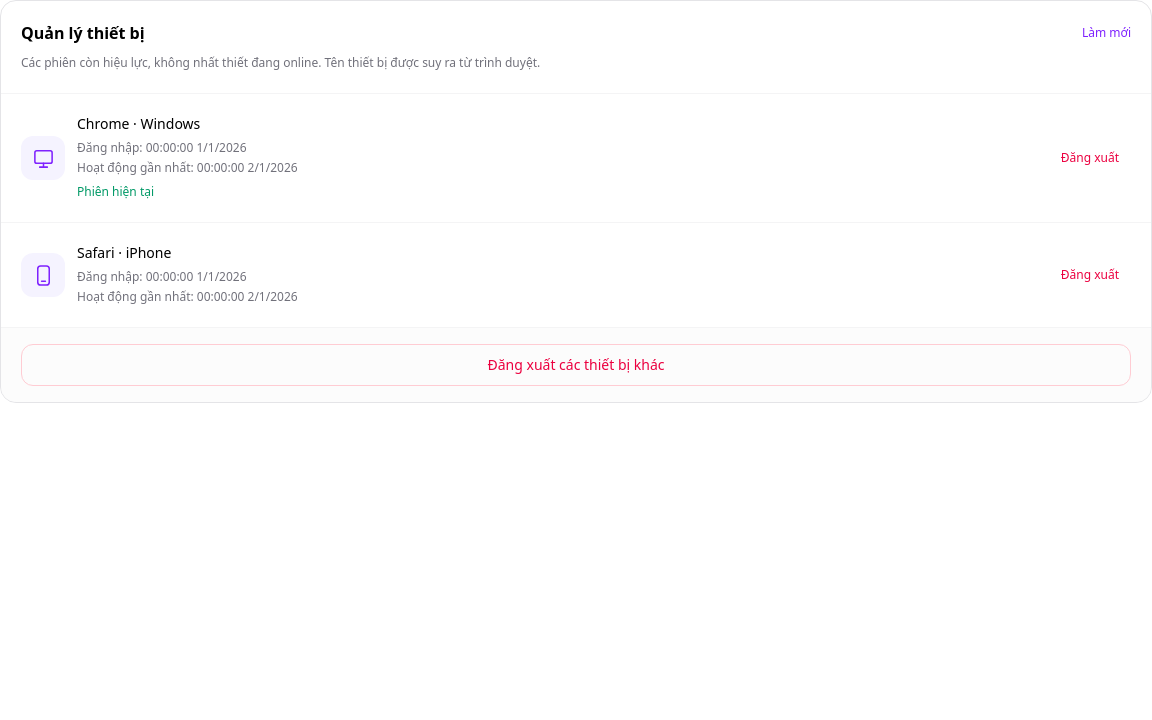
Test: revokes other sessions while preserving the current one
Expected: the text "Safari · iPhone" is shown, x1=77 y1=243 x2=171 y2=262
Click the button "Đăng xuất các thiết bị khác".
click(576, 365)  # box x1=21 y1=344 x2=1131 y2=386
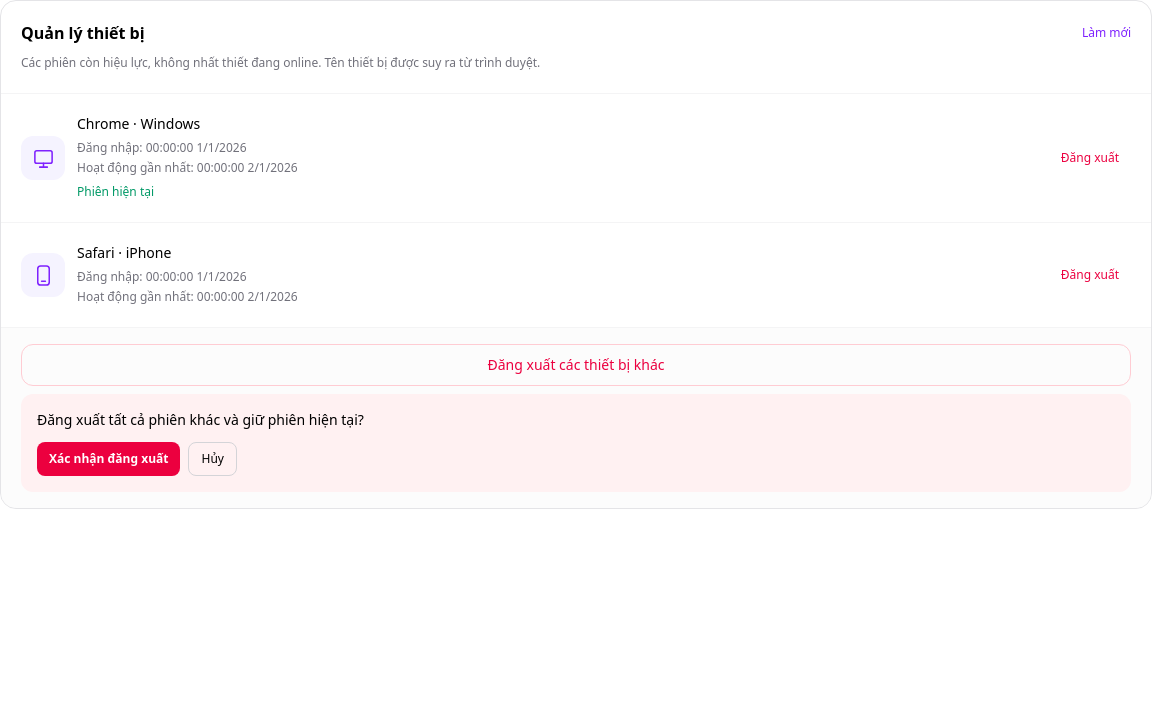
Click the button "Xác nhận đăng xuất".
click(109, 459)  # box x1=37 y1=442 x2=180 y2=476
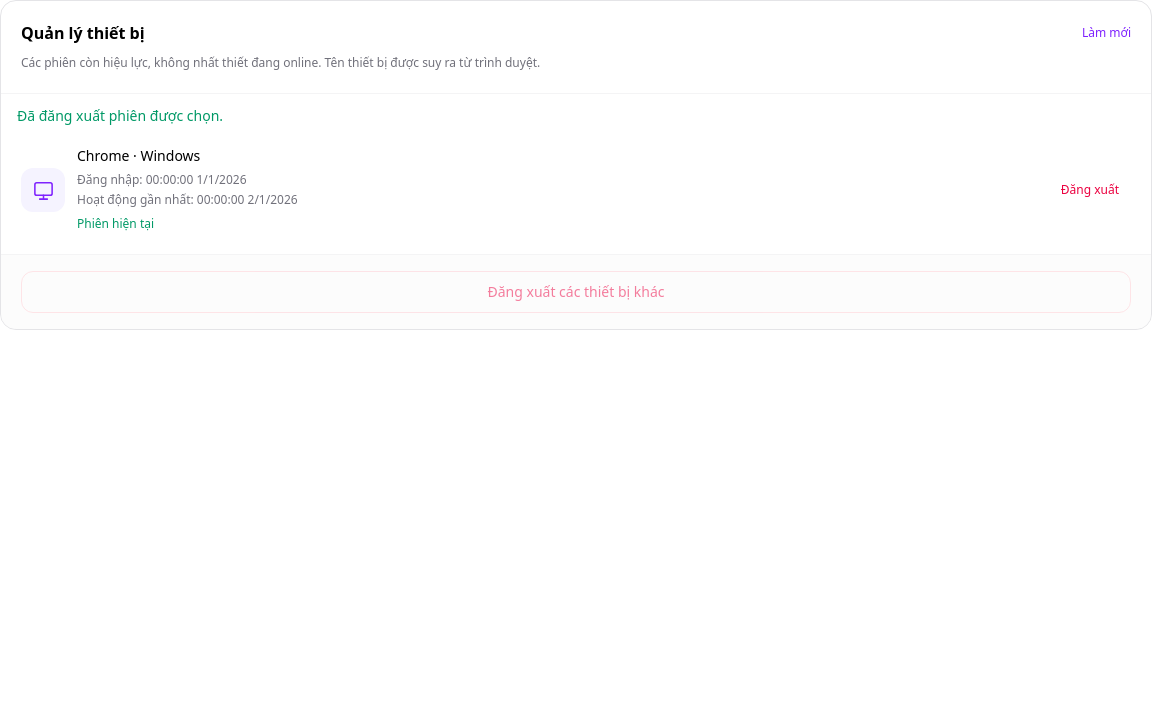
Expected: the text "Phiên hiện tại" is shown, x1=77 y1=216 x2=154 y2=232
Result: the text "Safari · iPhone" is gone
